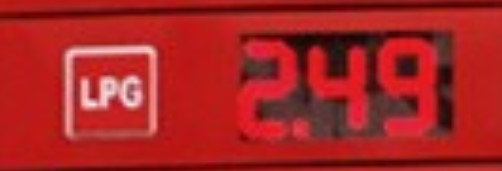digits: (226, 29, 299, 140), (375, 30, 446, 141), (302, 33, 371, 132)
